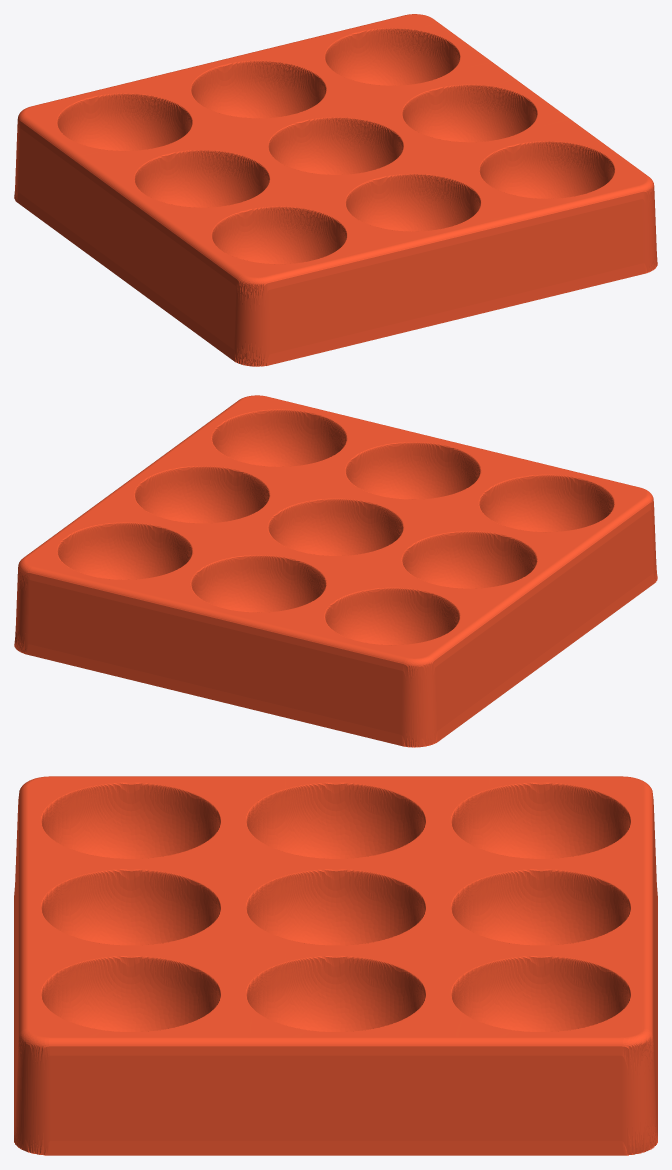
Rendered from mold.glb.
3 renders of one model, top to bottom at view 1: azimuth 30°, elevation 25°; view 2: azimuth 150°, elevation 25°; view 3: azimuth 270°, elevation 25°, orthographic. The views are drawn at different scales.
Visible parts, largest first — view 1: geometry_0; view 2: geometry_0; view 3: geometry_0.
Boxes of the visible parts, x1=… form: geometry_0: x1=14, y1=14, x2=657, y2=366; geometry_0: x1=14, y1=395, x2=657, y2=747; geometry_0: x1=14, y1=776, x2=657, y2=1155.
Bounding box in the file's own units: 0.1621 × 0.0311 × 0.1621.
